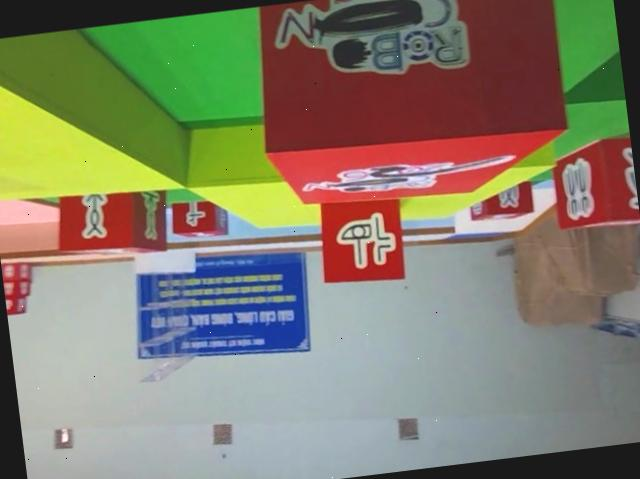R1: (248, 0, 575, 215)
R2 Fake: (549, 136, 640, 230)
R2 Real: (53, 176, 171, 263), (314, 190, 408, 289), (169, 190, 228, 242)
